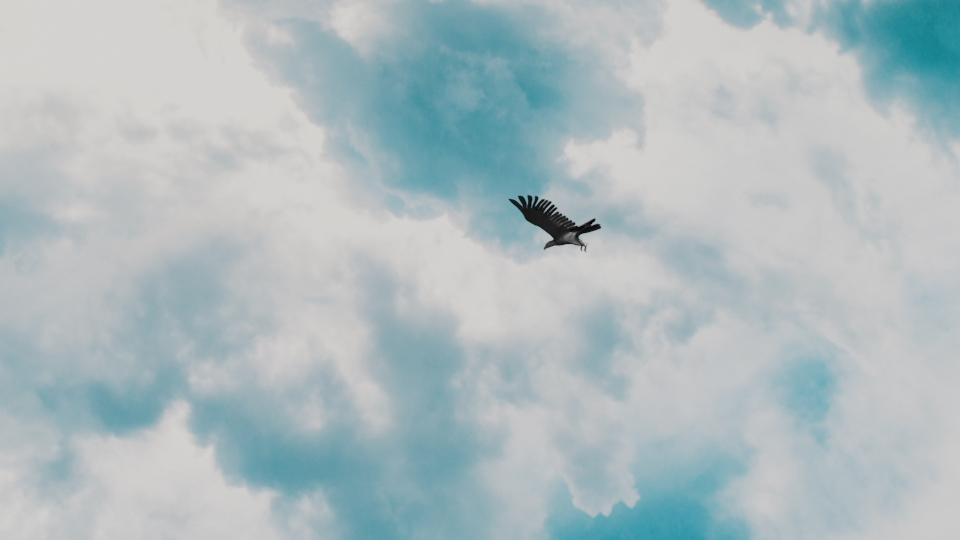bird: (506, 191, 599, 259)
